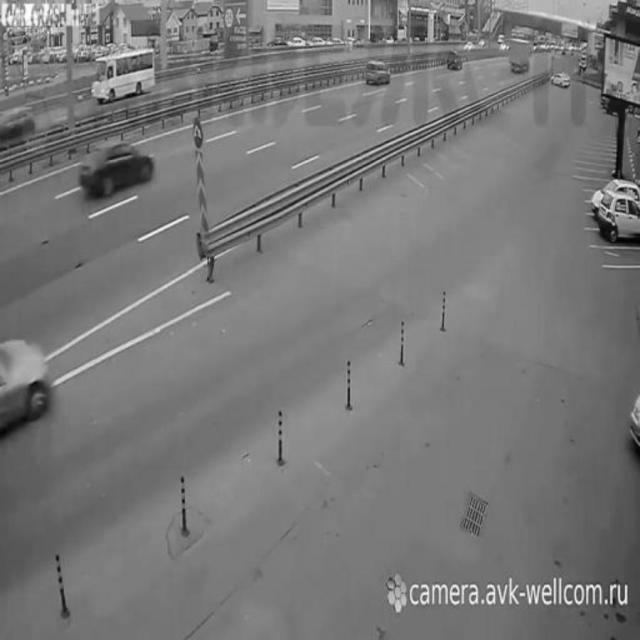vehicle: (79, 135, 153, 205), (0, 341, 55, 432), (91, 44, 155, 105), (598, 190, 640, 242), (364, 55, 392, 91), (509, 42, 535, 77), (550, 65, 572, 93), (445, 50, 462, 76)
